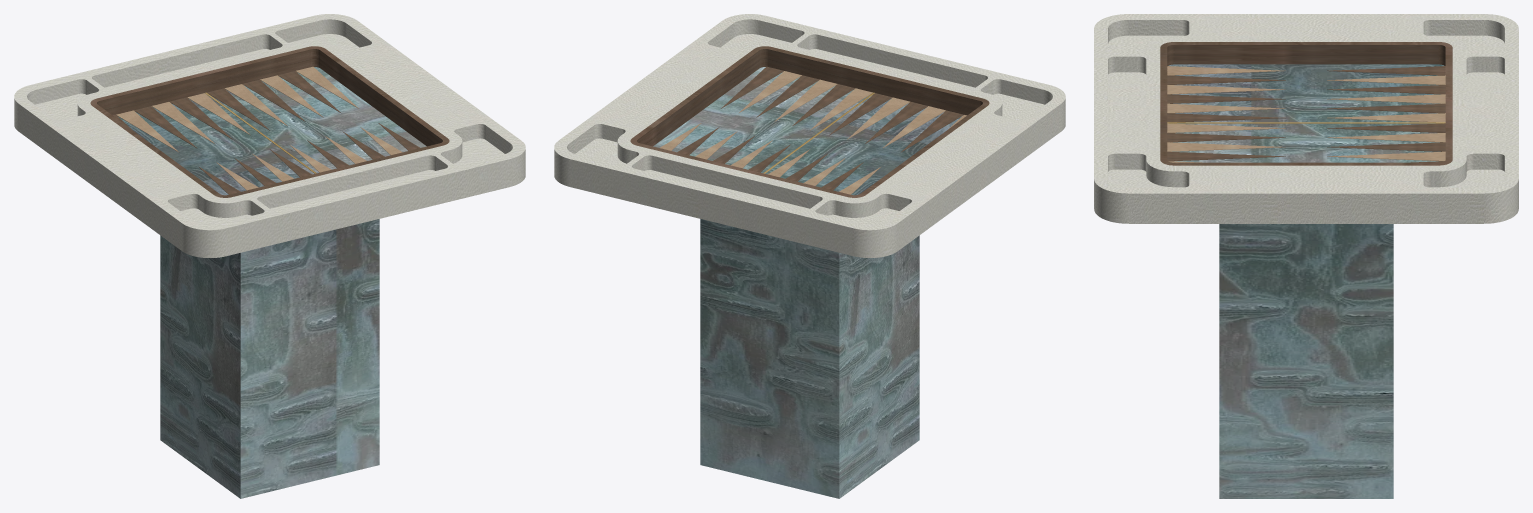
The model's file is TAWLA TABLE.glb.
3 views of the same model, side by side, from view 1: azimuth 30°, elevation 25°; view 2: azimuth 150°, elevation 25°; view 3: azimuth 270°, elevation 25° (orthographic). The views are drawn at different scales.
Size of the model in its own units: 0.6173 by 0.5746 by 0.6173.
5 materials, 5 textured.
